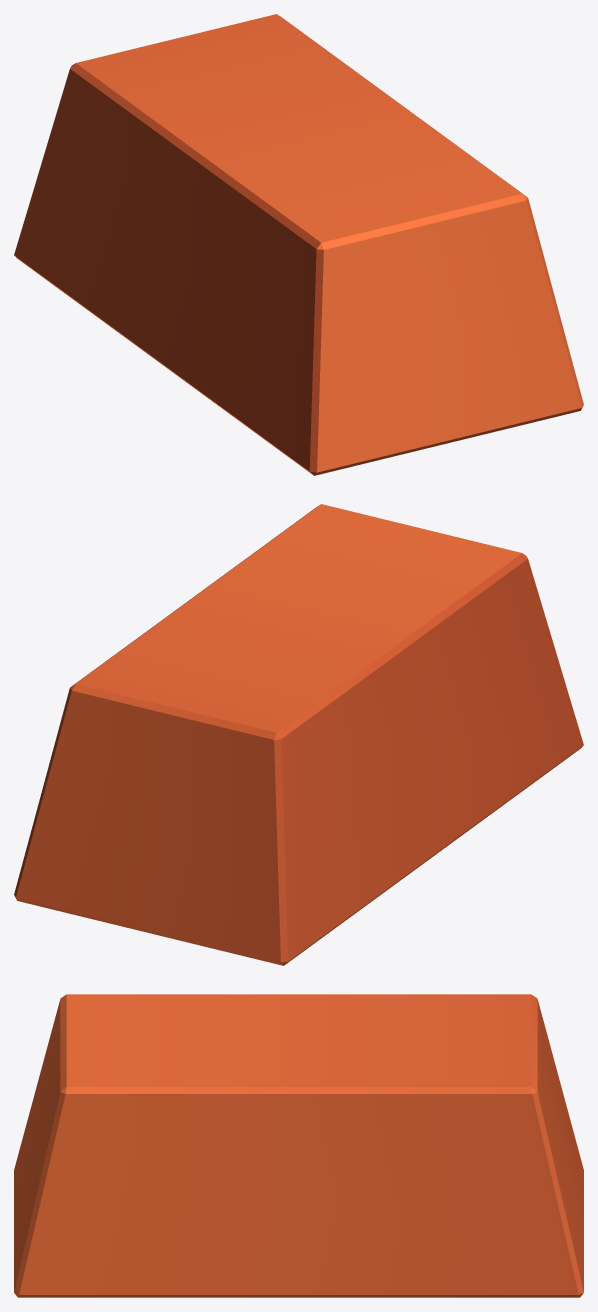
File: COPPER BAR.fbx
3 renders of one model, top to bottom at view 1: azimuth 30°, elevation 25°; view 2: azimuth 150°, elevation 25°; view 3: azimuth 270°, elevation 25°, orthographic. The views are drawn at different scales.
Parts seen in each view (by area): view 1: Cube.004; view 2: Cube.004; view 3: Cube.004.
Boxes of the visible parts, x1,y1,x2,y2 form: Cube.004: (14, 14, 583, 475); Cube.004: (14, 504, 583, 965); Cube.004: (14, 994, 583, 1297).
Bounding box in the file's own units: 59.85 × 43.02 × 114.
